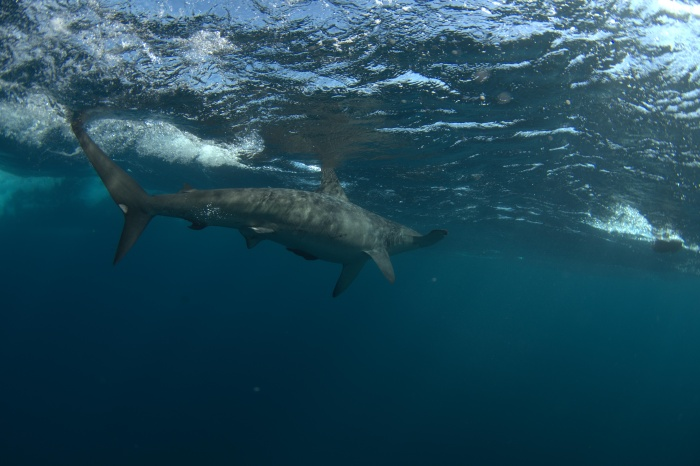Hammer: (58, 78, 490, 329)
